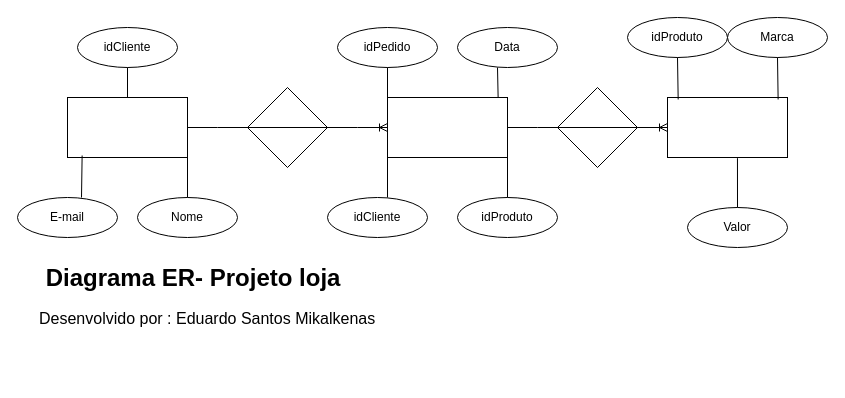
Some shapes in this 845 by 398 pixel diagram are drawn without their labels. Each missing label, with the centre of its shape:
"Clientes" belongs at [127,127].
"Pedidos" belongs at [447,127].
"Produtos" belongs at [727,127].
